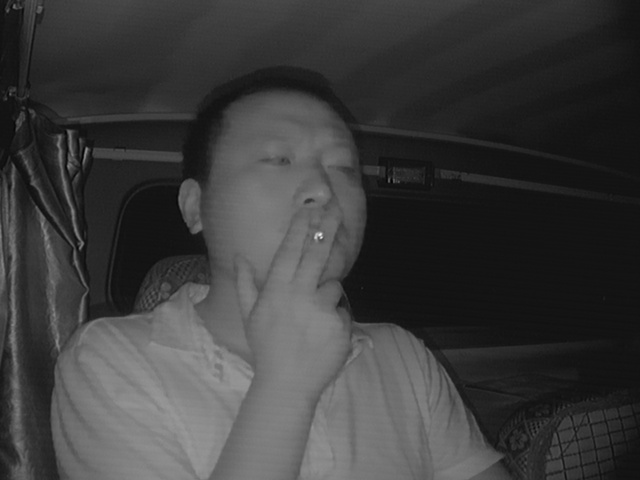hand: (241, 211, 352, 349)
